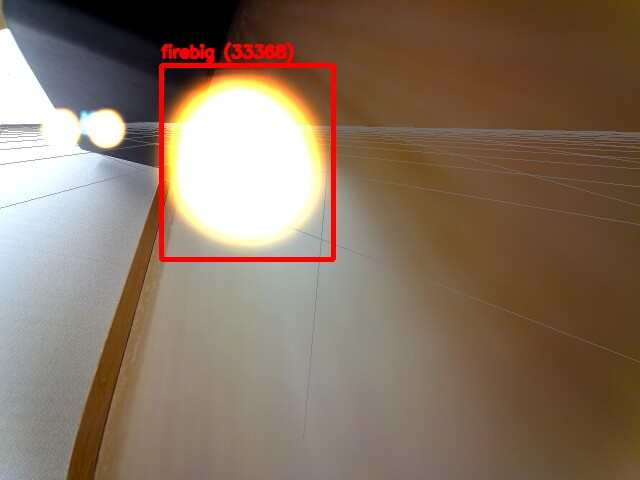firebig: (161, 65, 333, 259)
